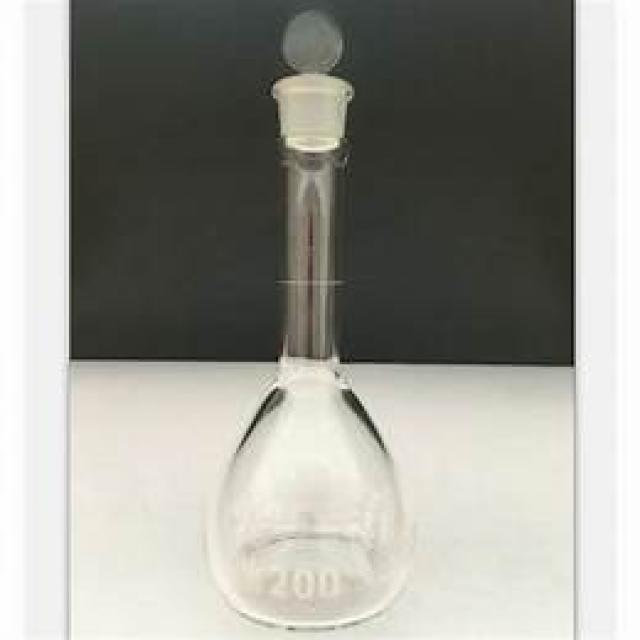Volumetric flask: (213, 62, 424, 632)
